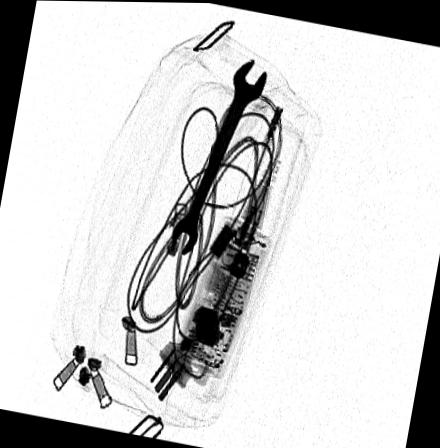Wrench: (170, 55, 268, 254)
